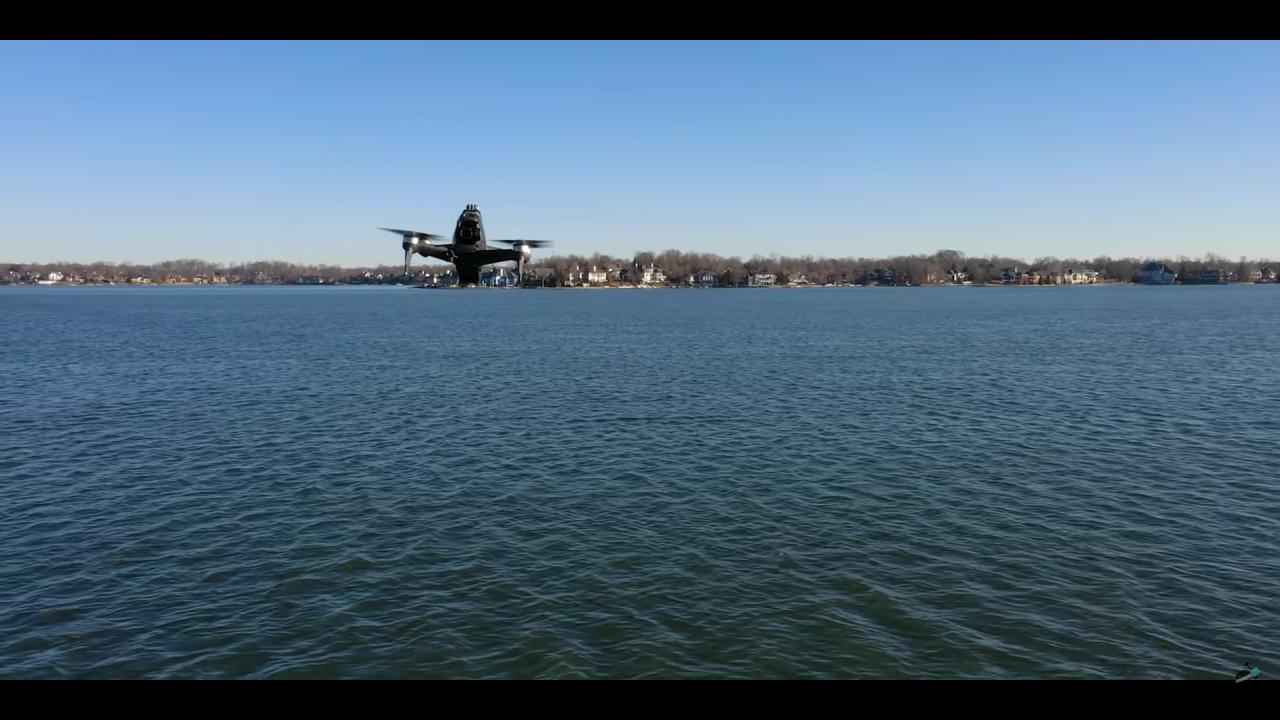Drone: (376, 197, 564, 296)
